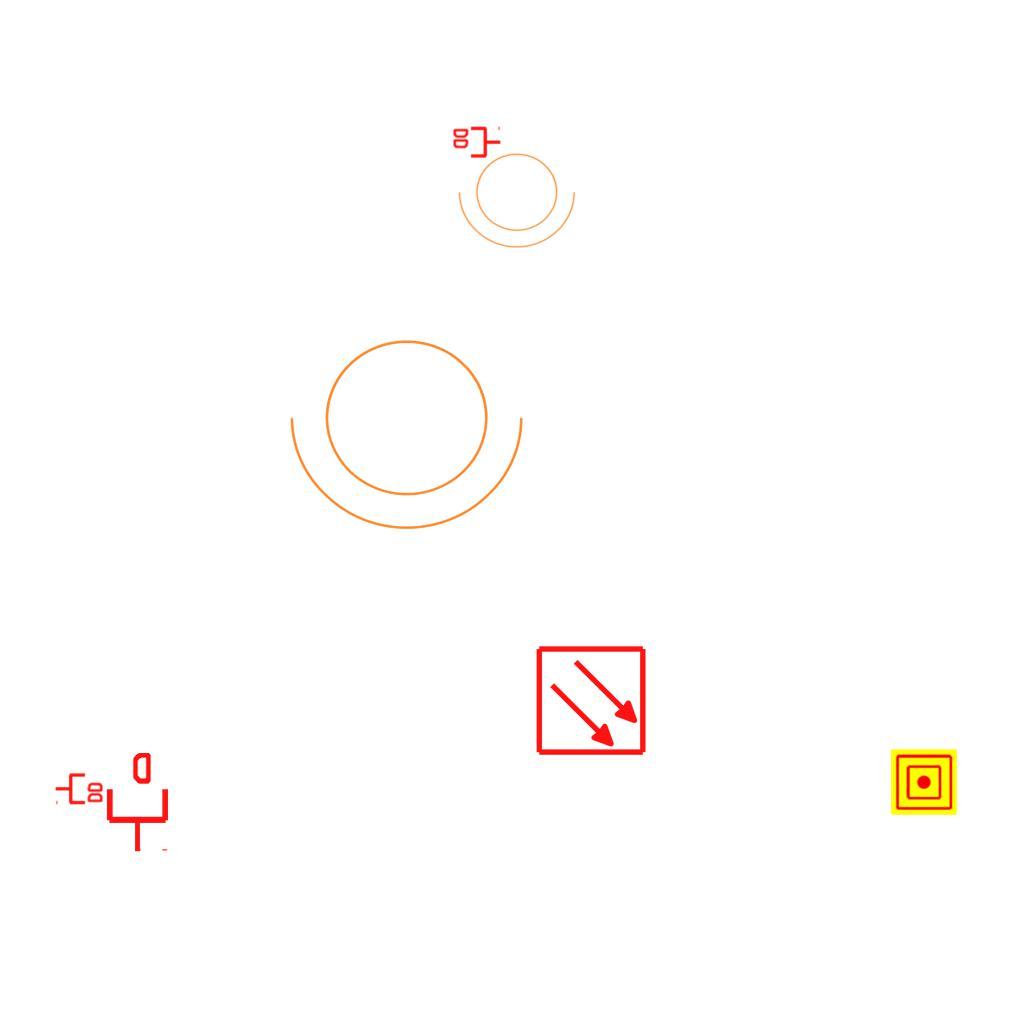Datenanschluss_einfach: (103, 753, 172, 853)
Datenanschluss_zweifach: (451, 126, 502, 160), (54, 771, 105, 805)
NAM-Nichtautomatischer_Melder: (891, 749, 957, 815)
RMO_Rauchmelder_optischer: (535, 644, 648, 757)
Scheinwerfer_fuer_Alarmbeleuchtung: (281, 315, 545, 540), (454, 141, 586, 253)
